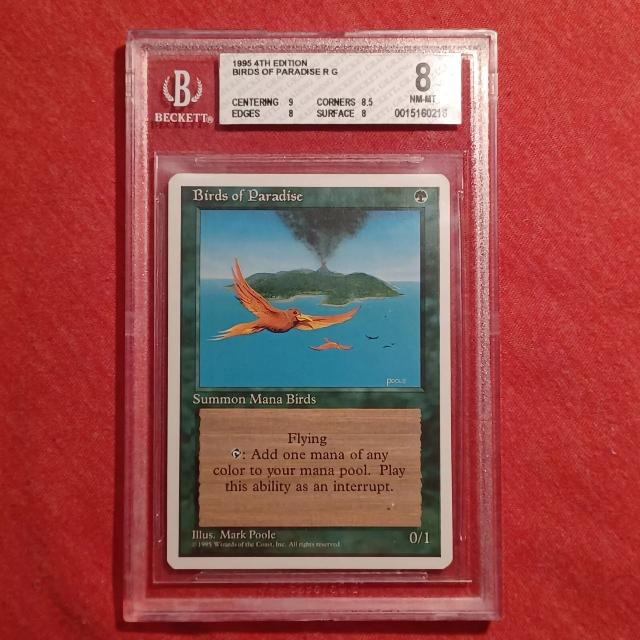bgs_label: (219, 53, 462, 125)
bgs_slab: (123, 29, 504, 623)
card: (168, 172, 453, 570)
